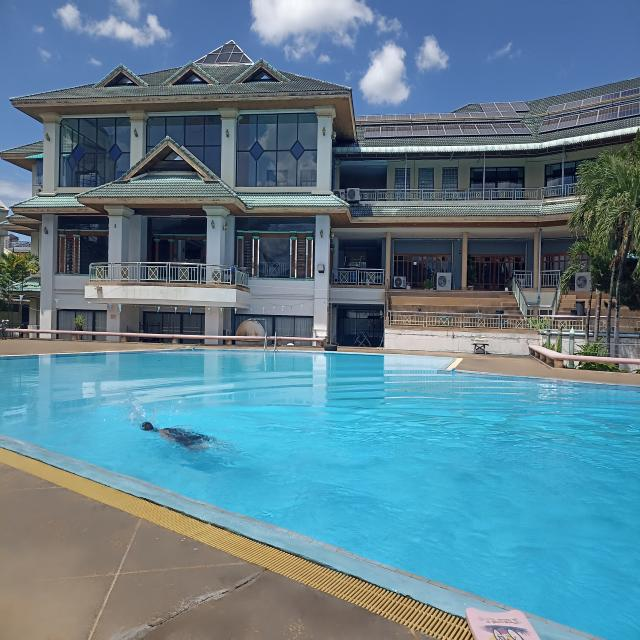Swimming: (129, 404, 259, 480)
